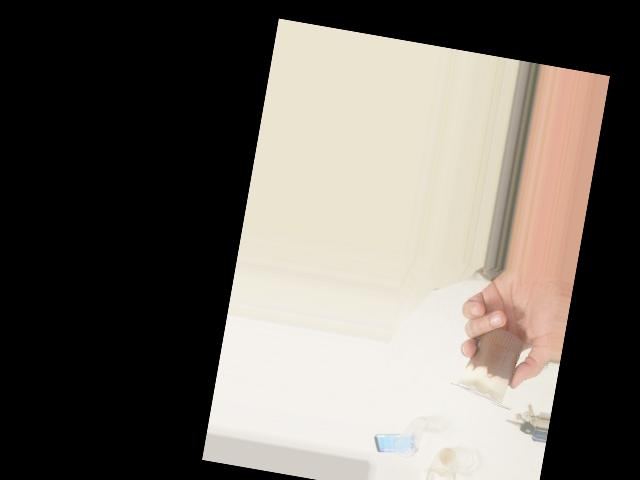milky: (383, 330, 475, 407)
